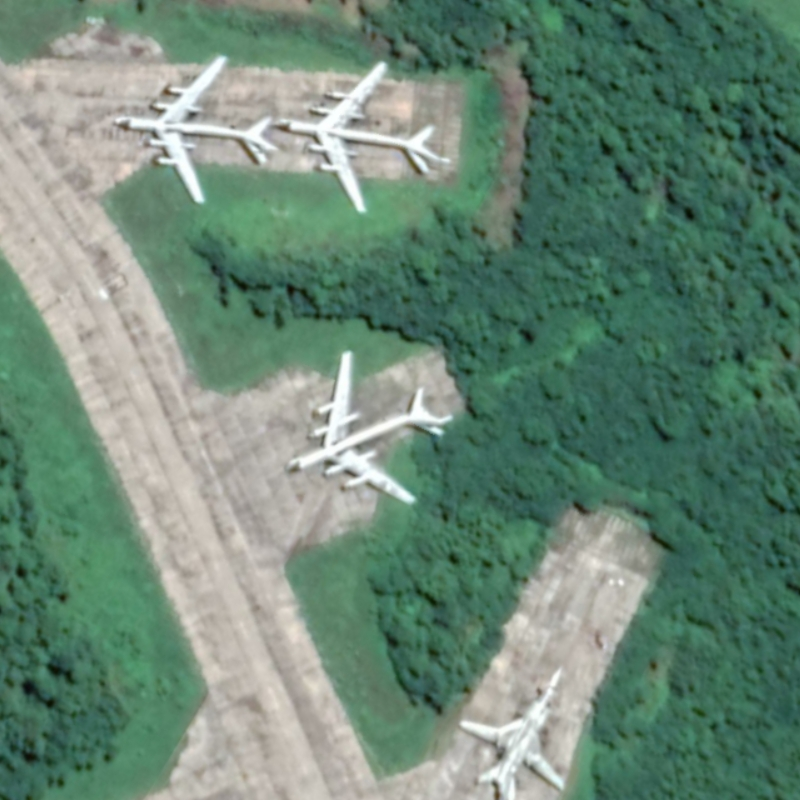A12: (457, 665, 569, 800)
A17: (273, 59, 451, 216), (283, 346, 455, 508), (110, 51, 282, 208)
